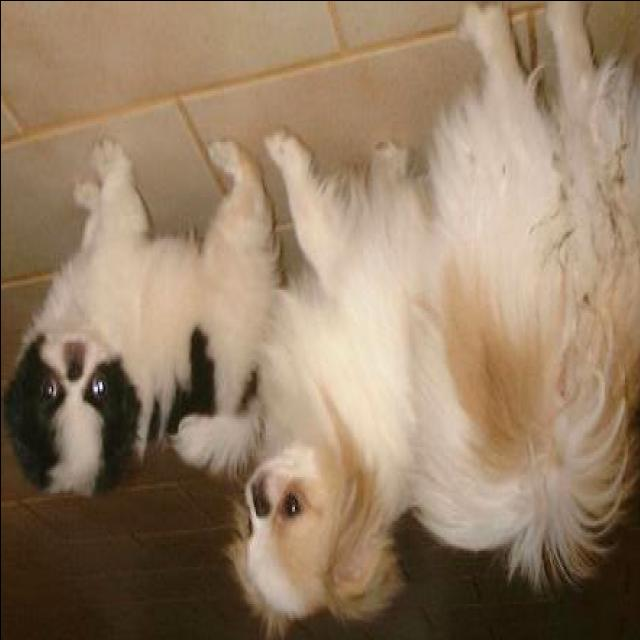husky: (228, 2, 638, 633), (4, 127, 290, 529)
